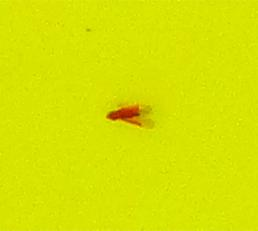Hemiptera: (100, 100, 158, 131)
